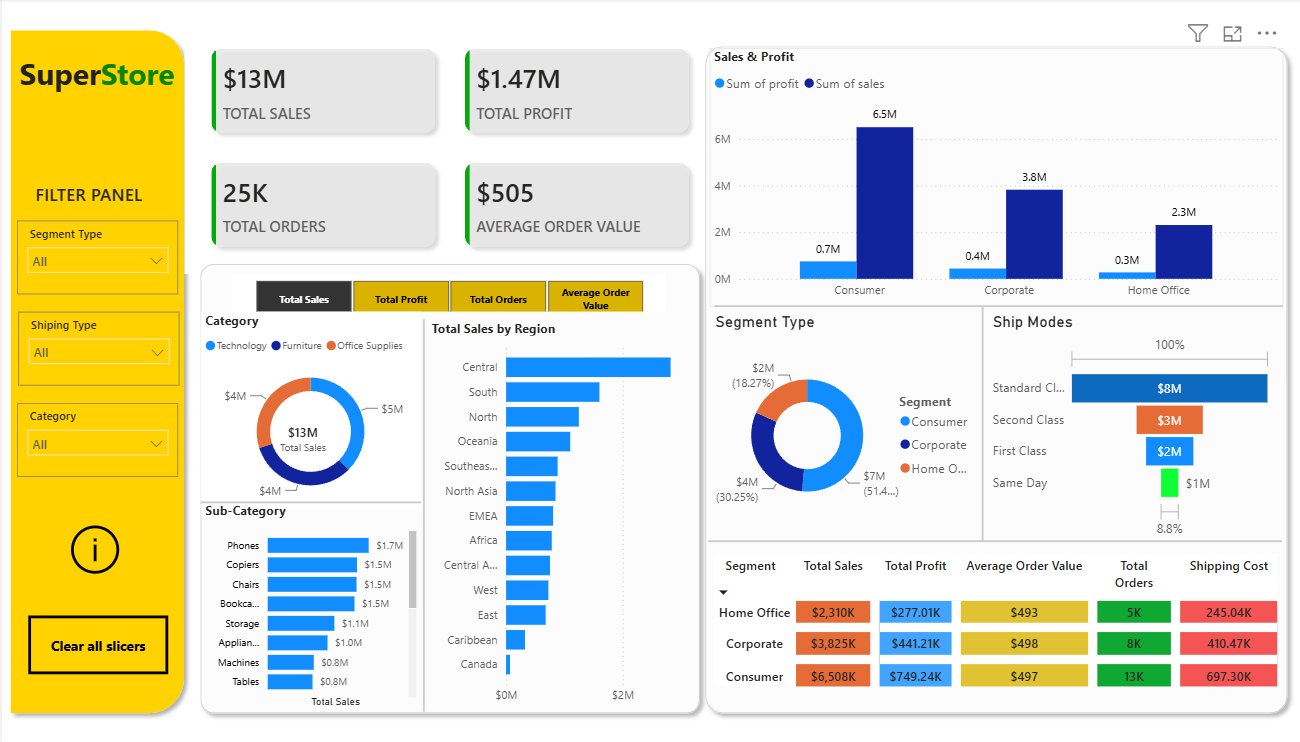

The page's visual inventory and layout, read from the dashboard file:
{"tool":"powerbi","page":{"name":"Dashboard","canvas":[1400,800],"ordinal":0},"visuals":[{"type":"shape","box":[0,25.5,204.1,750.4],"z":0},{"type":"textbox","box":[7.5,54,187.6,69],"z":1000},{"type":"cardVisual","fields":{"Data":["public global_superstore.Total Sales","public global_superstore.Total Profit","public global_superstore.Total Orders","public global_superstore.Average Order Value"]},"box":[195.1,25.5,570.3,270.2],"z":2000},{"type":"shape","box":[203.8,276.1,553.6,500],"z":3000},{"type":"slicer","fields":{"Values":["Metrics.Metrics"]},"box":[246.7,296.2,465.1,40.2],"z":4000},{"type":"donutChart","title":"Category","fields":{"Y":["public global_superstore.Total Sales"],"Category":["public global_superstore.category"]},"box":[213.1,336.5,235.9,211.8],"z":5000},{"type":"cardVisual","fields":{"Data":["public global_superstore.Total Sales"]},"box":[257.4,435.7,131.4,73.7],"z":6000},{"type":"clusteredBarChart","title":"Sub-Category","fields":{"Y":["public global_superstore.Total Sales"],"Category":["public global_superstore.sub_category"]},"box":[213.1,540.2,235.9,225.2],"z":7000},{"type":"shape","box":[449.1,344.5,6.7,420.9],"z":8000},{"type":"shape","box":[213.1,533.5,235.9,14.7],"z":9000},{"type":"barChart","fields":{"Y":["public global_superstore.Total Sales"],"Category":["public global_superstore.region"]},"box":[455.8,344.5,289.5,420.9],"z":10000},{"type":"shape","box":[745.3,42.9,642.1,733.2],"z":11000},{"type":"clusteredColumnChart","title":"Sales & Profit","fields":{"Y":["Sum(public global_superstore.profit)","Sum(public global_superstore.sales)"],"Category":["public global_superstore.segment"]},"box":[758.7,53.6,615.3,277.5],"z":12000},{"type":"shape","box":[764.1,320.4,609.9,20.1],"z":13000},{"type":"funnel","title":"Ship Modes","fields":{"Y":["public global_superstore.Total Sales"],"Category":["public global_superstore.ship_mode"]},"box":[1057.6,336.5,309.7,246.7],"z":14000},{"type":"donutChart","title":"Segment Type","fields":{"Y":["public global_superstore.Total Sales"],"Category":["public global_superstore.segment"]},"box":[760.1,336.5,292.2,246.7],"z":15000},{"type":"shape","box":[1045.6,331.1,12.1,252],"z":16000},{"type":"shape","box":[757.4,573.7,615.3,17.4],"z":17000},{"type":"pivotTable","fields":{"Values":["public global_superstore.Total Sales","public global_superstore.Total Profit","public global_superstore.Average Order Value","public global_superstore.Total Orders","Sum(public global_superstore.shipping_cost)"],"Rows":["public global_superstore.segment"]},"box":[758.7,591.2,615.3,174.3],"z":18000},{"type":"slicer","fields":{"Values":["public global_superstore.segment"]},"box":[16.6,238.6,172.9,79.1],"z":19000},{"type":"slicer","fields":{"Values":["public global_superstore.ship_mode"]},"box":[17.4,337,172.9,79.1],"z":20000},{"type":"slicer","fields":{"Values":["public global_superstore.category"]},"box":[16.4,434.6,172.9,79.1],"z":21000},{"type":"textbox","box":[31.1,193.2,139.2,45.9],"z":22000},{"type":"actionButton","title":"Clear All Slicers","box":[28.2,662.2,150.1,63],"z":23000},{"type":"actionButton","box":[67,556.3,65.7,69.7],"z":24000}]}

Visuals, with their boxes on the page's 1400x800 design canvas (x1, y1, x2, y2). These are canvas units, not pixel positions in the 1300x742 screenshot, which may show the page scaled, cropped or inside an application window:
shape: {"x1": 0, "y1": 26, "x2": 204, "y2": 776}
textbox: {"x1": 8, "y1": 54, "x2": 195, "y2": 123}
cardVisual - public global_superstore.Total Sales x public global_superstore.Total Profit: {"x1": 195, "y1": 26, "x2": 765, "y2": 296}
shape: {"x1": 204, "y1": 276, "x2": 757, "y2": 776}
slicer - Metrics.Metrics: {"x1": 247, "y1": 296, "x2": 712, "y2": 336}
"Category" donutChart: {"x1": 213, "y1": 336, "x2": 449, "y2": 548}
cardVisual - public global_superstore.Total Sales: {"x1": 257, "y1": 436, "x2": 389, "y2": 509}
"Sub-Category" clusteredBarChart: {"x1": 213, "y1": 540, "x2": 449, "y2": 765}
shape: {"x1": 449, "y1": 344, "x2": 456, "y2": 765}
shape: {"x1": 213, "y1": 534, "x2": 449, "y2": 548}
barChart - public global_superstore.Total Sales x public global_superstore.region: {"x1": 456, "y1": 344, "x2": 745, "y2": 765}
shape: {"x1": 745, "y1": 43, "x2": 1387, "y2": 776}
"Sales & Profit" clusteredColumnChart: {"x1": 759, "y1": 54, "x2": 1374, "y2": 331}
shape: {"x1": 764, "y1": 320, "x2": 1374, "y2": 340}
"Ship Modes" funnel: {"x1": 1058, "y1": 336, "x2": 1367, "y2": 583}
"Segment Type" donutChart: {"x1": 760, "y1": 336, "x2": 1052, "y2": 583}
shape: {"x1": 1046, "y1": 331, "x2": 1058, "y2": 583}
shape: {"x1": 757, "y1": 574, "x2": 1373, "y2": 591}
pivotTable - public global_superstore.Total Sales x public global_superstore.Total Profit: {"x1": 759, "y1": 591, "x2": 1374, "y2": 766}
slicer - public global_superstore.segment: {"x1": 17, "y1": 239, "x2": 190, "y2": 318}
slicer - public global_superstore.ship_mode: {"x1": 17, "y1": 337, "x2": 190, "y2": 416}
slicer - public global_superstore.category: {"x1": 16, "y1": 435, "x2": 189, "y2": 514}
textbox: {"x1": 31, "y1": 193, "x2": 170, "y2": 239}
"Clear All Slicers" actionButton: {"x1": 28, "y1": 662, "x2": 178, "y2": 725}
actionButton: {"x1": 67, "y1": 556, "x2": 133, "y2": 626}
